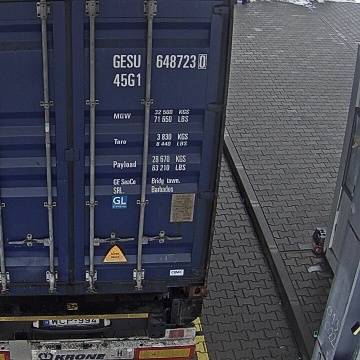serial_id: (113, 54, 205, 68)
